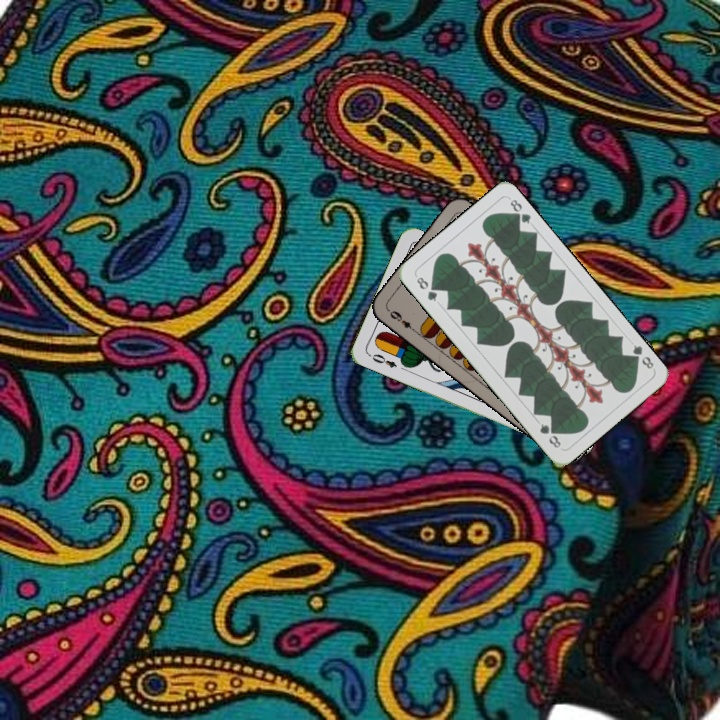E9: (384, 306, 419, 335)
EO: (365, 350, 400, 370)
G8: (626, 340, 656, 372), (412, 273, 440, 304)
